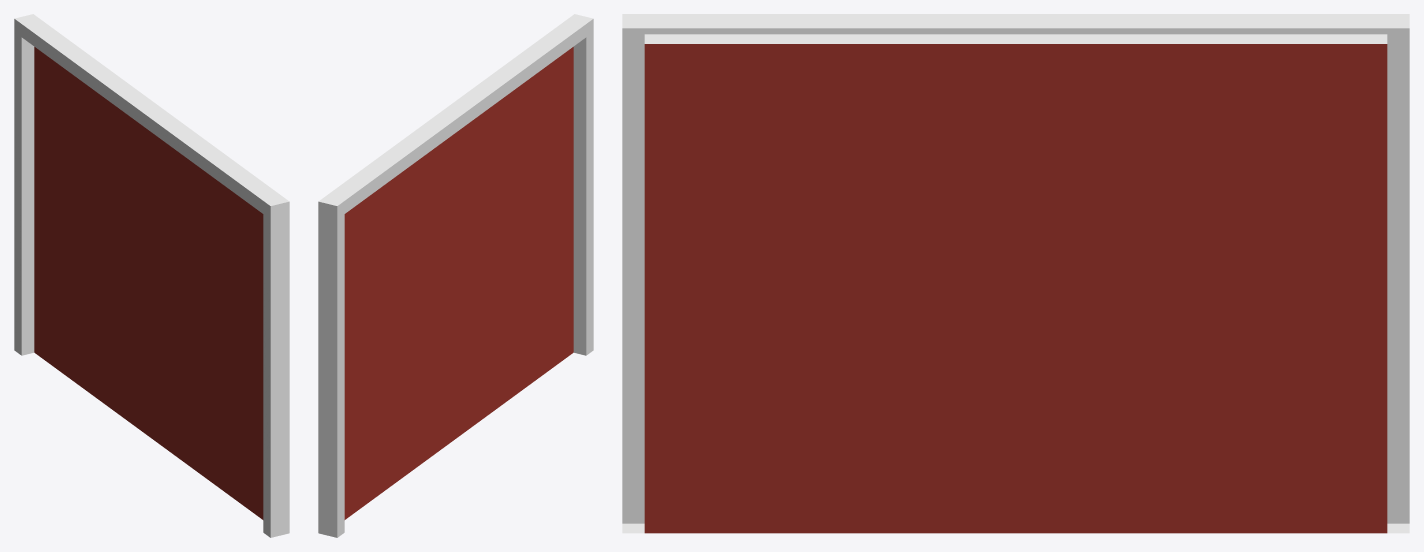
Rendered from SM_GarageDoor_01.fbx.
3 renders of one model, left to right at view 1: azimuth 30°, elevation 25°; view 2: azimuth 150°, elevation 25°; view 3: azimuth 270°, elevation 25°, orthographic. The views are drawn at different scales.
Parts seen in each view (by area): view 1: SM_GarageDoor_01; view 2: SM_GarageDoor_01; view 3: SM_GarageDoor_01.
Part boxes in pixels (box(x1,y1,x2,y2)): SM_GarageDoor_01: box(14, 14, 289, 537); SM_GarageDoor_01: box(318, 14, 593, 537); SM_GarageDoor_01: box(622, 14, 1409, 533).
Size of the model in its own units: 15 by 250 by 350.
